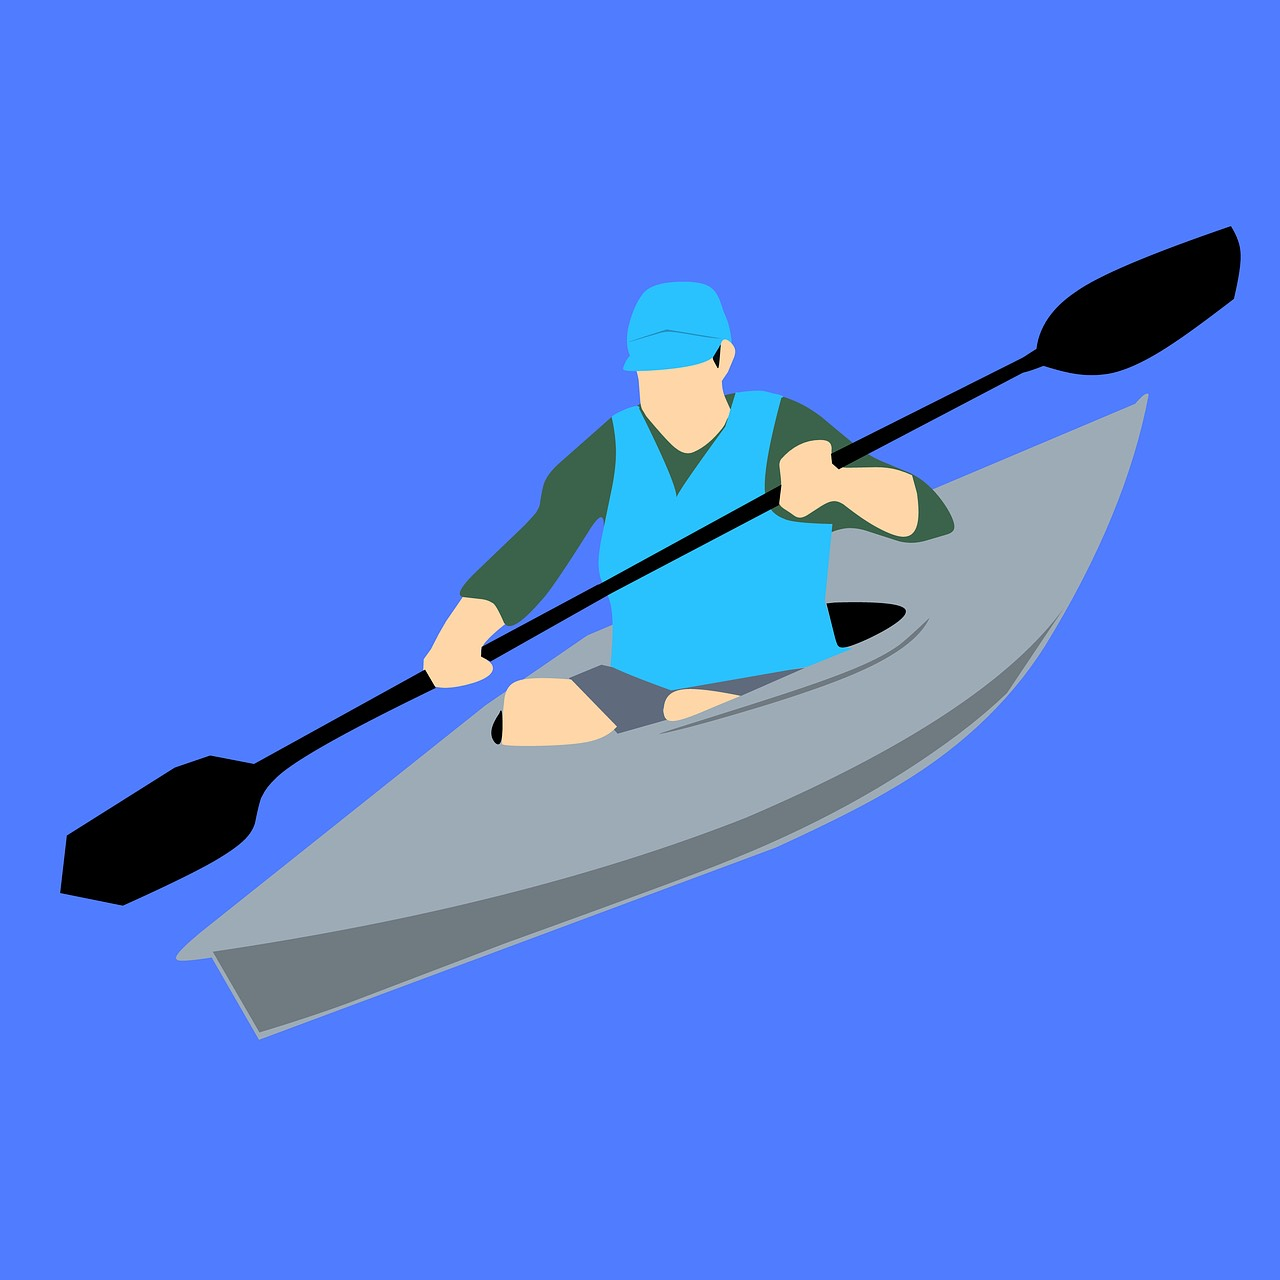kayak: (169, 394, 1163, 1042)
